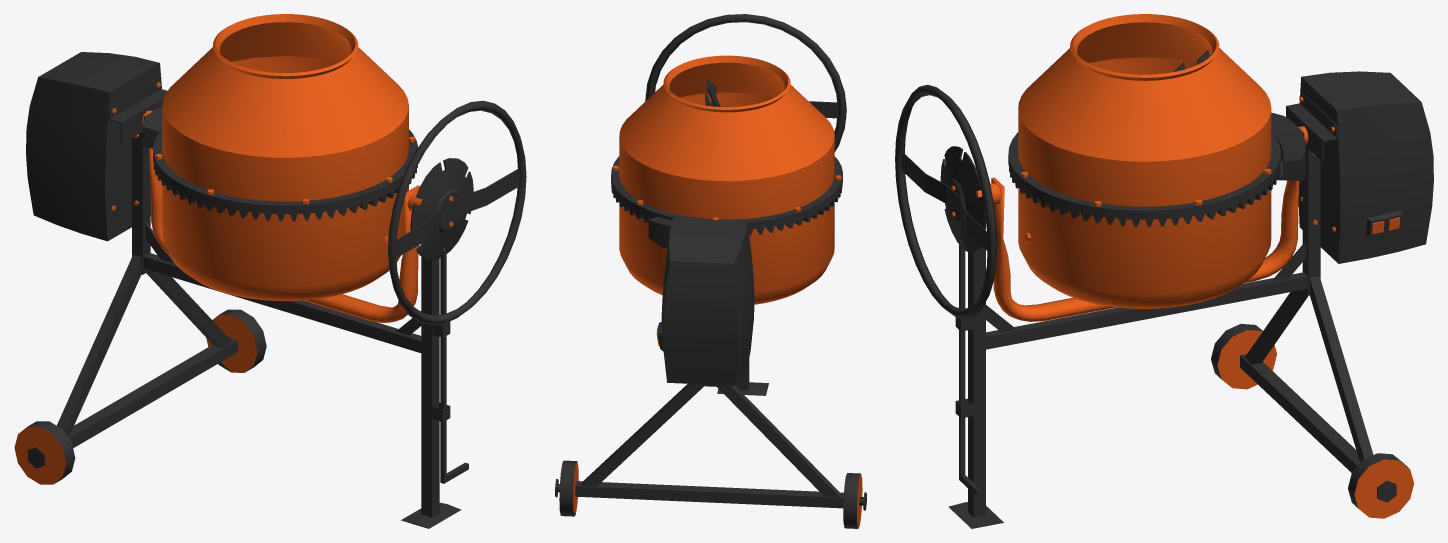
The model's file is mixer.glb.
The picture shows the model from 3 angles, left to right: view 1: azimuth 30°, elevation 25°; view 2: azimuth 150°, elevation 25°; view 3: azimuth 270°, elevation 25°; orthographic projection. The views are drawn at different scales.
Parts seen in each view (by area): view 1: Object_6, Object_4; view 2: Object_6, Object_4; view 3: Object_6, Object_4.
Boxes of the visible parts, x1=… form: Object_6: x1=14, y1=14, x2=453, y2=484; Object_4: x1=26, y1=52, x2=526, y2=528; Object_6: x1=573, y1=55, x2=862, y2=528; Object_4: x1=555, y1=14, x2=866, y2=528; Object_6: x1=951, y1=14, x2=1414, y2=518; Object_4: x1=895, y1=50, x2=1433, y2=528.
Bounding box in the file's own units: 8.45 × 9.15 × 10.19.
